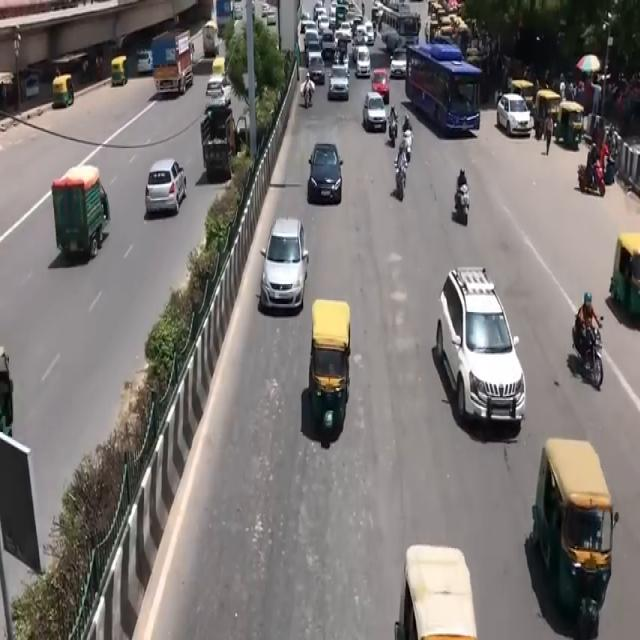BUS: (404, 43, 482, 140)
MOTORCYCLE: (584, 322, 604, 392), (456, 186, 471, 228)
TRUCK: (155, 30, 198, 100)
